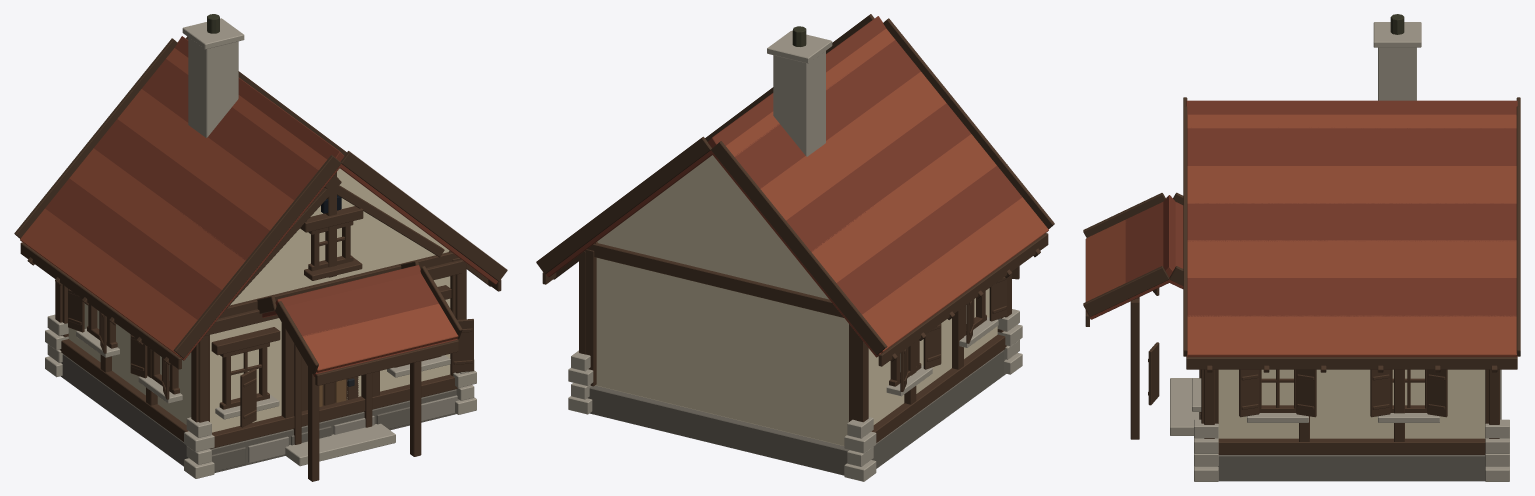
File: V_Maison_C.glb
3 views of the same model, side by side, from view 1: azimuth 30°, elevation 25°; view 2: azimuth 150°, elevation 25°; view 3: azimuth 270°, elevation 25° (orthographic). The views are drawn at different scales.
Parts seen in each view (by area): view 1: V_Maison_C; view 2: V_Maison_C; view 3: V_Maison_C.
Boxes of the visible parts, left/top/right/bottom form: V_Maison_C: left=14, top=14, right=507, bottom=481; V_Maison_C: left=536, top=14, right=1054, bottom=481; V_Maison_C: left=1083, top=14, right=1520, bottom=481.
Bounding box in the file's own units: 6.2 × 6.66 × 6.76.
